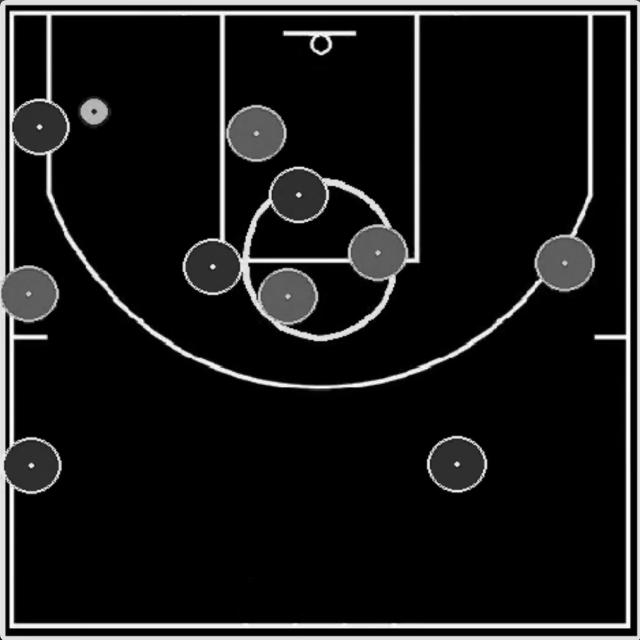Basketball: (78, 97, 112, 129)
Team_A: (268, 166, 328, 224), (427, 436, 487, 493), (182, 239, 242, 295), (3, 437, 61, 494), (12, 99, 69, 155)
Team_B: (258, 268, 318, 326), (226, 105, 286, 161), (534, 235, 594, 291), (1, 265, 58, 322), (349, 225, 407, 281)
